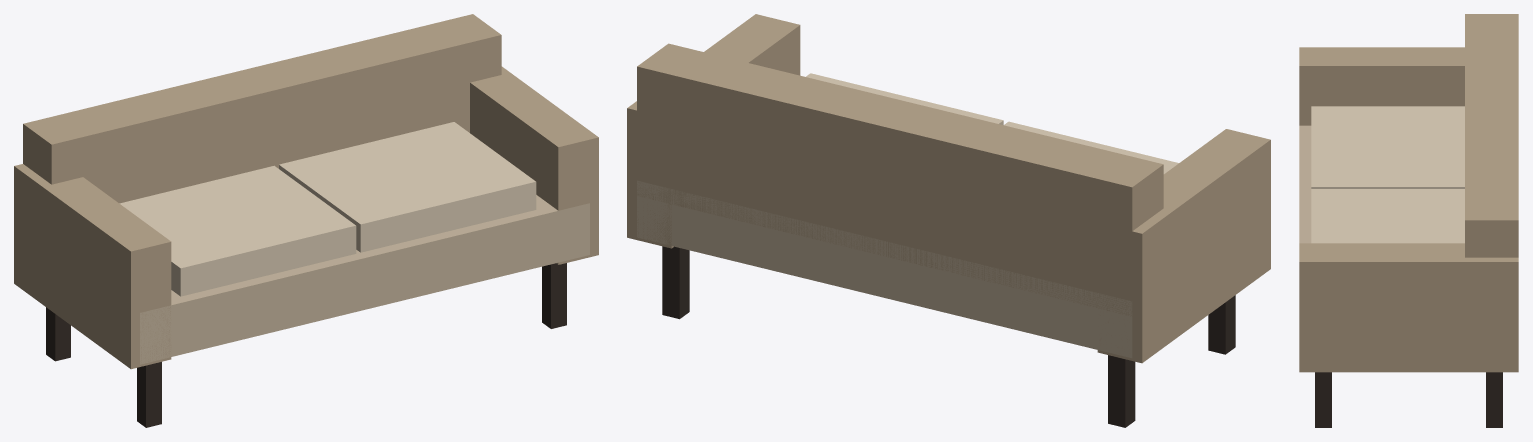
The model's file is sofa.glb.
3 renders of one model, left to right at view 1: azimuth 30°, elevation 25°; view 2: azimuth 150°, elevation 25°; view 3: azimuth 270°, elevation 25°, orthographic. The views are drawn at different scales.
Visible parts, largest first — view 1: sofa; view 2: sofa; view 3: sofa.
Part boxes in pixels (box(x1,y1,x2,y2)): sofa: box(14, 14, 598, 427); sofa: box(627, 14, 1270, 427); sofa: box(1299, 14, 1518, 427).
Size of the model in its own units: 2.08 by 0.97 by 0.9.
